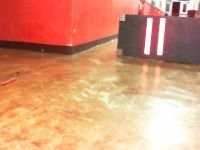switch: (157, 18, 166, 56), (144, 18, 153, 55)
